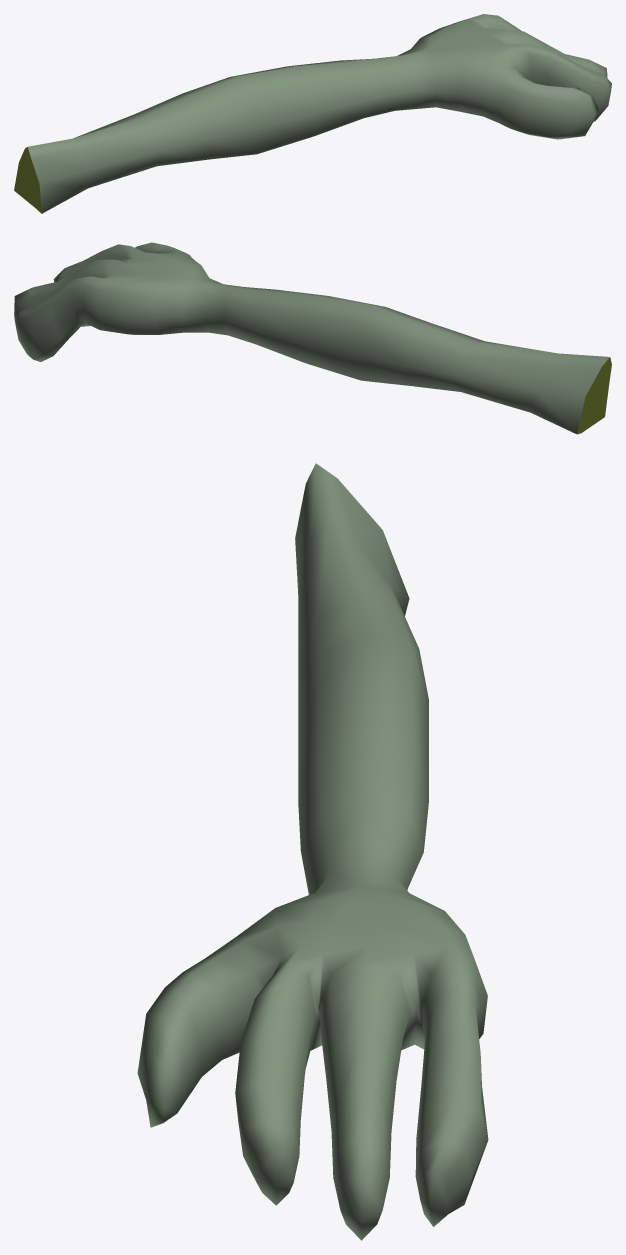
File: GreenLeftArm.fbx
3 views of the same model, one above another, from view 1: azimuth 30°, elevation 25°; view 2: azimuth 150°, elevation 25°; view 3: azimuth 270°, elevation 25° (orthographic). The views are drawn at different scales.
Visible parts, largest first — view 1: polySurface1; view 2: polySurface1; view 3: polySurface1.
Boxes of the visible parts, x1,y1,x2,y2 form: polySurface1: [14, 14, 611, 213]; polySurface1: [14, 242, 611, 434]; polySurface1: [137, 463, 488, 1240].
Bounding box in the file's own units: 109 × 21.1 × 28.23.
